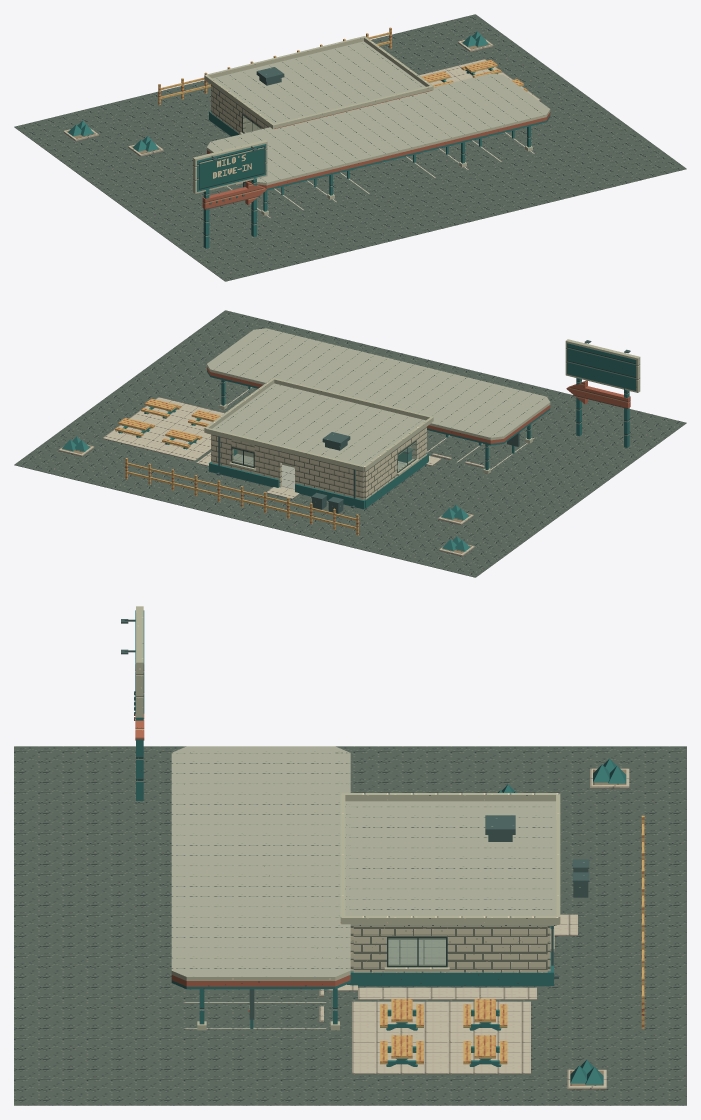
The model's file is carhop-restored.glb.
The picture shows the model from 3 angles, top to bottom: view 1: azimuth 30°, elevation 25°; view 2: azimuth 150°, elevation 25°; view 3: azimuth 270°, elevation 25°; orthographic projection. The views are drawn at different scales.
Parts seen in each view (by area): view 1: lot__ground_asphalt, carhop_canopy__roof_membrane, stand__roof_membrane, stand__wall_enamel, sign_name, carhop_canopy__detail_coral, stand__wall_block, carhop_canopy__wall_enamel, roadside_pylon__detail_teal, carhop_canopy__detail_teal, roadside_pylon__detail_coral, roadside_pylon__wall_enamel (+2 smaller); view 2: lot__ground_asphalt, carhop_canopy__roof_membrane, stand__roof_membrane, stand__wall_block, walks__ground_paving, stand__wall_enamel, roadside_pylon__detail_teal, stand__detail_teal, rear_fence__detail_wood, roadside_pylon__detail_coral, stand__glass_windows, carhop_canopy__detail_coral (+5 smaller); view 3: lot__ground_asphalt, carhop_canopy__roof_membrane, stand__roof_membrane, walks__ground_paving, stand__wall_block, stand__wall_enamel, stand__detail_teal, stand__glass_windows, stand__ground_paving, carhop_canopy__detail_teal, carhop_canopy__detail_coral, picnic_table_2__detail_wood (+8 smaller).
Part boxes in pixels (<box>): lot__ground_asphalt: <box>14,14,686,281</box>; carhop_canopy__roof_membrane: <box>207,73,549,182</box>; stand__roof_membrane: <box>212,41,425,123</box>; stand__wall_enamel: <box>204,36,433,134</box>; sign_name: <box>199,146,264,189</box>; carhop_canopy__detail_coral: <box>207,112,550,188</box>; stand__wall_block: <box>211,84,268,133</box>; carhop_canopy__wall_enamel: <box>207,109,550,215</box>; roadside_pylon__detail_teal: <box>197,144,266,248</box>; carhop_canopy__detail_teal: <box>207,115,550,211</box>; roadside_pylon__detail_coral: <box>202,181,266,209</box>; roadside_pylon__wall_enamel: <box>193,140,267,193</box>; lot__ground_asphalt: <box>14,310,686,577</box>; carhop_canopy__roof_membrane: <box>207,328,549,437</box>; stand__roof_membrane: <box>207,384,425,471</box>; stand__wall_block: <box>211,427,426,499</box>; walks__ground_paving: <box>102,397,441,499</box>; stand__wall_enamel: <box>204,378,433,475</box>; roadside_pylon__detail_teal: <box>567,343,636,447</box>; stand__detail_teal: <box>209,449,428,509</box>; rear_fence__detail_wood: <box>125,458,358,535</box>; roadside_pylon__detail_coral: <box>566,380,630,408</box>; stand__glass_windows: <box>231,440,416,472</box>; carhop_canopy__detail_coral: <box>207,367,550,443</box>; lot__ground_asphalt: <box>14,746,686,1105</box>; carhop_canopy__roof_membrane: <box>171,746,350,976</box>; stand__roof_membrane: <box>345,801,556,925</box>; walks__ground_paving: <box>327,914,577,1074</box>; stand__wall_block: <box>350,926,550,972</box>; stand__wall_enamel: <box>340,793,560,971</box>; stand__detail_teal: <box>347,926,553,986</box>; stand__glass_windows: <box>387,937,447,967</box>; stand__ground_paving: <box>388,940,445,964</box>; carhop_canopy__detail_teal: <box>171,980,350,1024</box>; carhop_canopy__detail_coral: <box>171,975,350,986</box>; picnic_table_2__detail_wood: <box>463,999,507,1027</box>.
Size of what is drawn, in the model's own units: 43.46 by 8.3 by 34.45.
12 materials, 12 textured.
